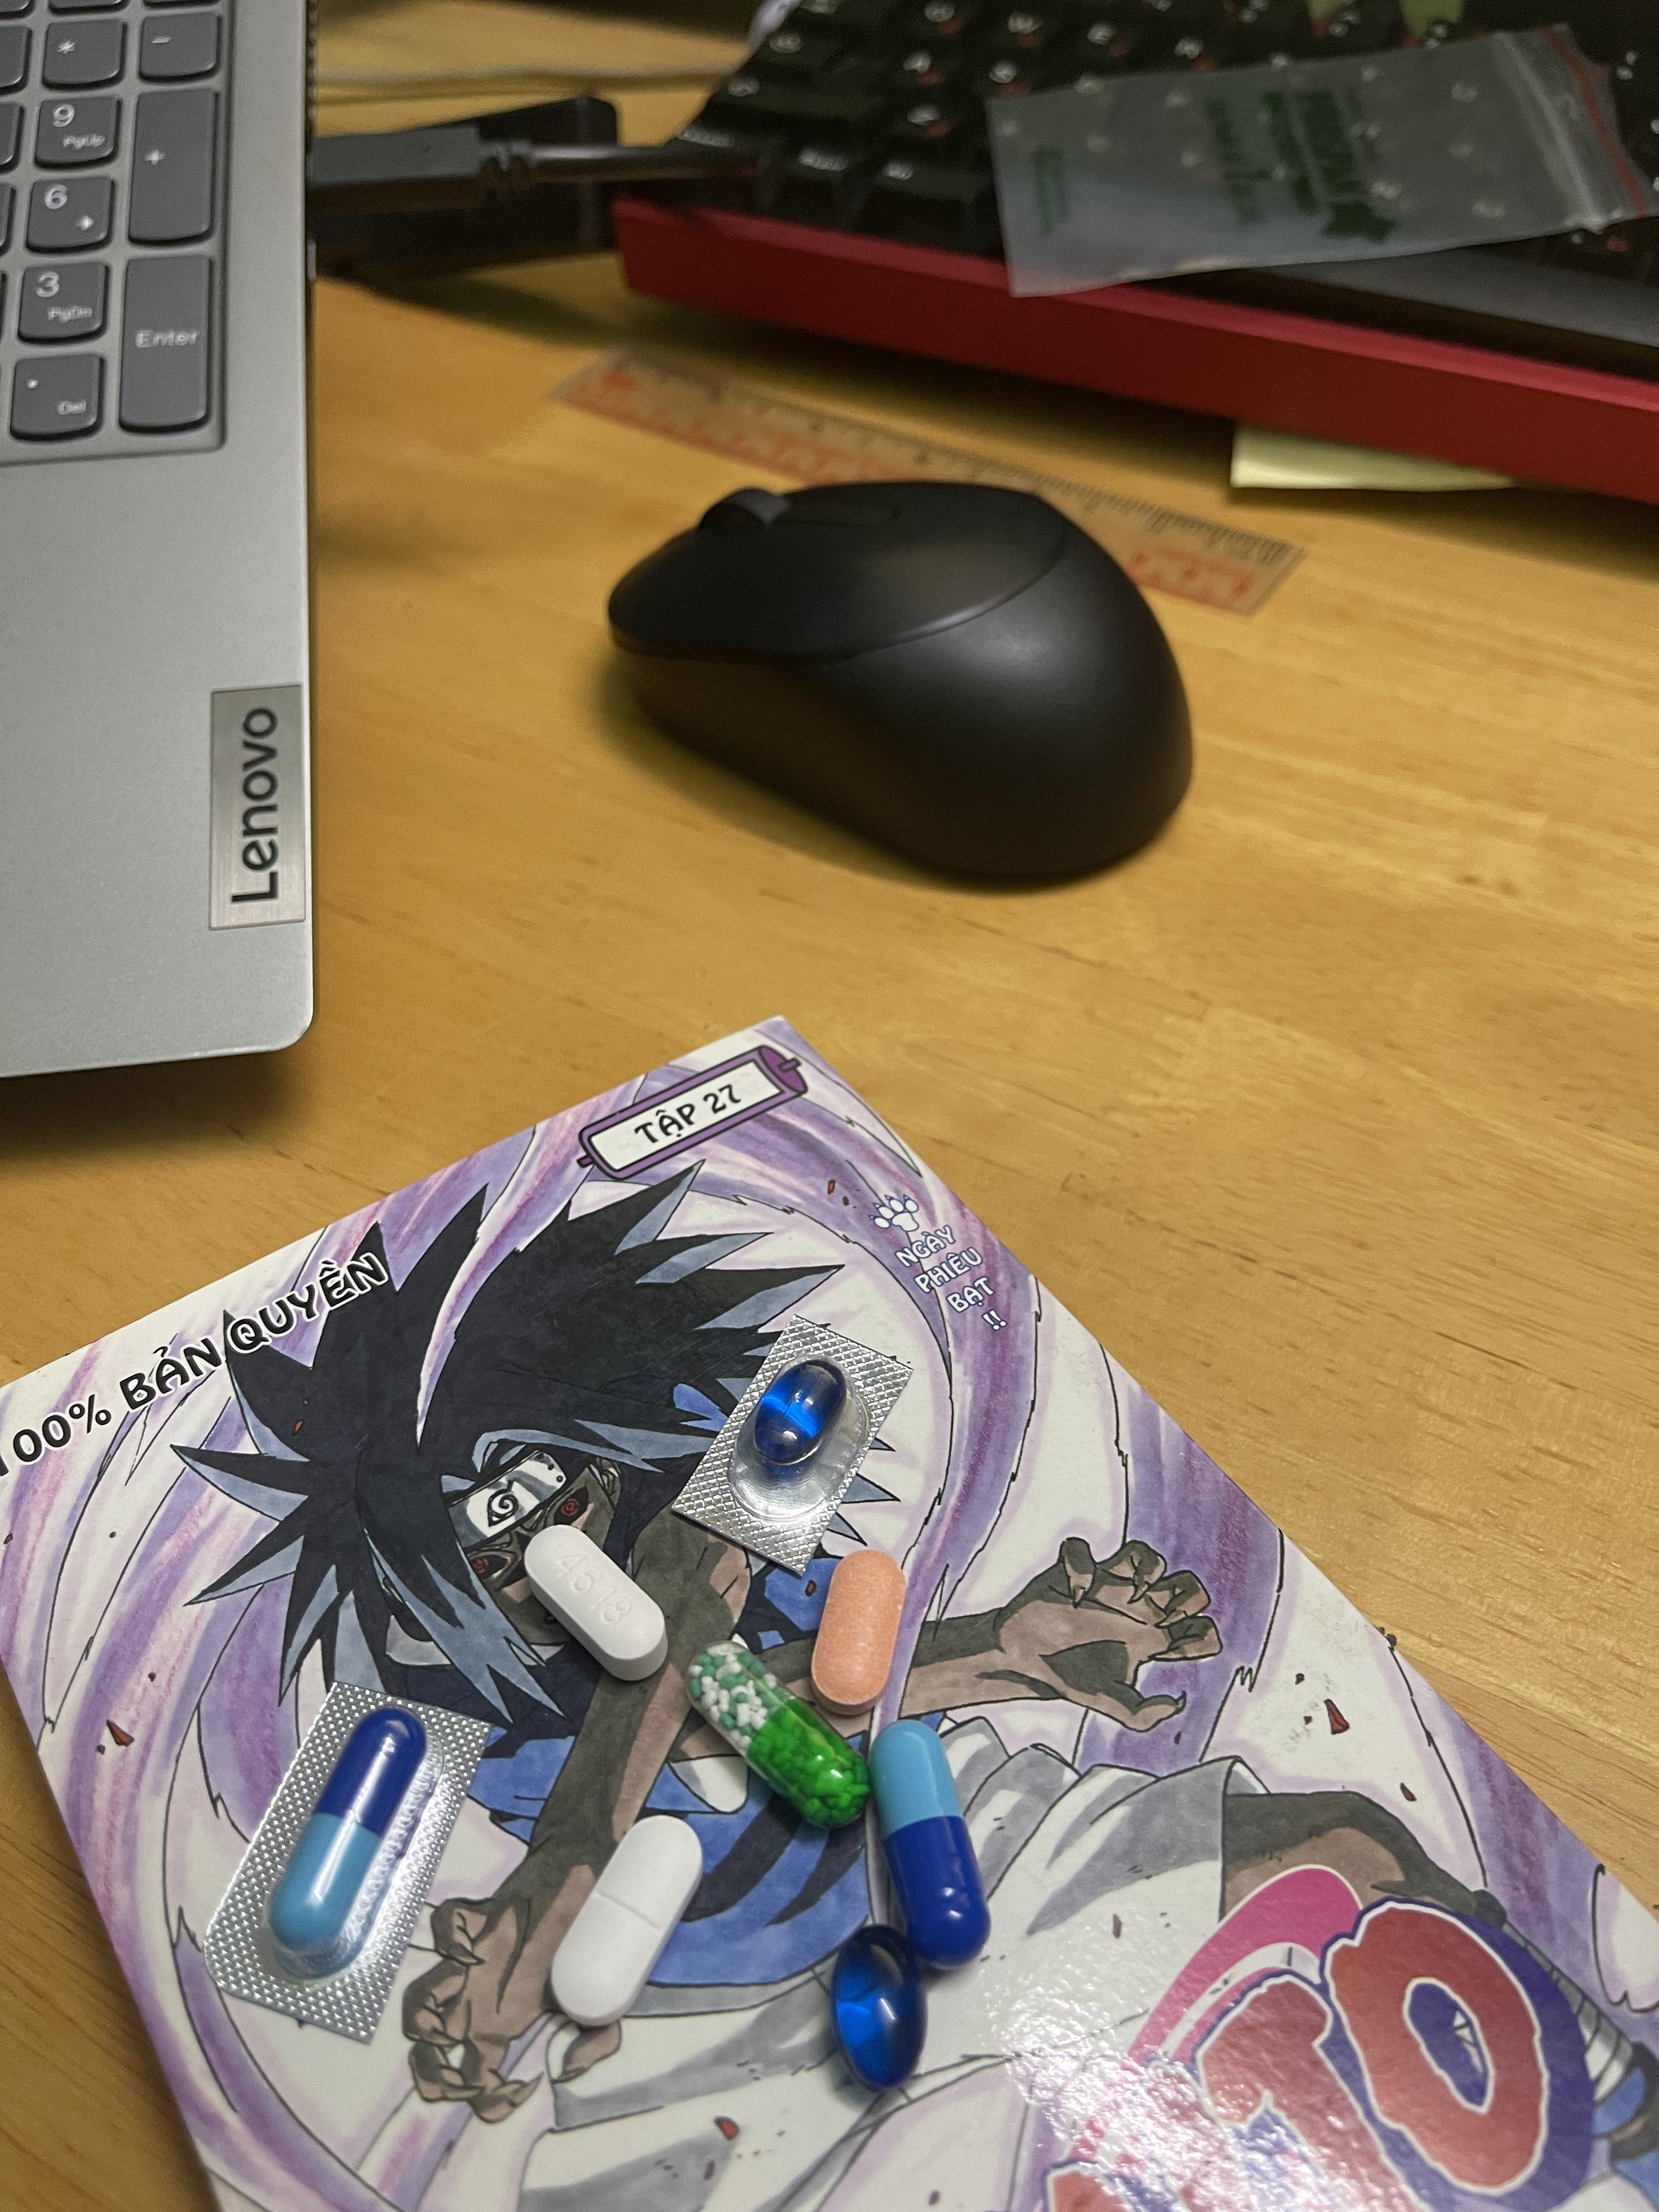Lincomyxin_500mg: (831, 1930, 922, 2083), (756, 1360, 845, 1467)
Loratadine_10mg: (810, 1552, 904, 1703)
Paracetamol_350mg: (544, 1813, 702, 2027)
Paracetamol_500mg: (523, 1524, 671, 1679)
Paracetamol_650mg: (690, 1641, 866, 1822)
pill: (267, 1719, 429, 1965), (871, 1717, 985, 1965)
